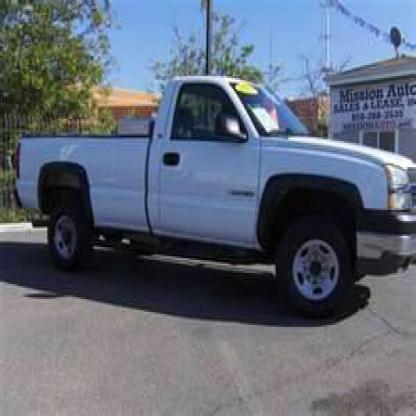Vehicle: (18, 76, 415, 325)
